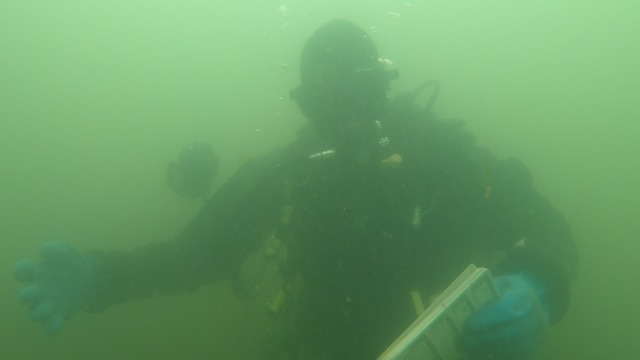Diver: (15, 8, 589, 346)
Hand: (437, 255, 569, 343), (14, 241, 127, 325)
Head: (258, 24, 423, 179)
